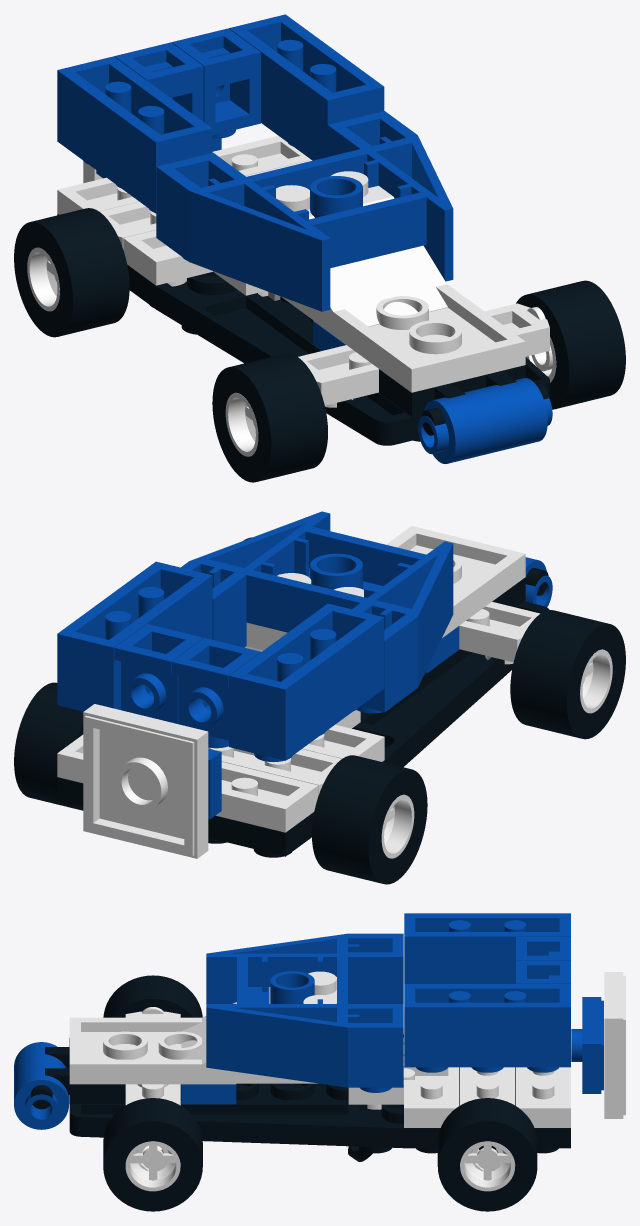
The model's file is Nova Hunter.dae.
3 views of the same model, one above another, from view 1: azimuth 30°, elevation 25°; view 2: azimuth 150°, elevation 25°; view 3: azimuth 270°, elevation 25° (orthographic). The views are drawn at different scales.
Visible parts, largest first — view 1: 2399_dot_dat, 30028_dot_dat (×3), 3622_dot_dat (×2), 2413_dot_dat, 3021_dot_dat, 4070_dot_dat (×2), 3062b_dot_dat (×2), 3298_dot_dat, 2926_dot_dat (×2), 3710_dot_dat, 30027a_dot_dat (×2), 2420_dot_dat (+1 smaller); view 2: 3622_dot_dat (×2), 30028_dot_dat (×3), 2399_dot_dat, 3068bp10_dot_dat, 2413_dot_dat, 4070_dot_dat (×2), 3710_dot_dat, 2926_dot_dat (×2), 3021_dot_dat, 30027a_dot_dat (×2), 2420_dot_dat, 3298_dot_dat (+4 smaller); view 3: 2399_dot_dat, 3622_dot_dat (×2), 30028_dot_dat (×3), 2413_dot_dat, 3021_dot_dat, 30027a_dot_dat (×2), 2420_dot_dat, 3062b_dot_dat (×2), 3068bp10_dot_dat, 2926_dot_dat (×2), 3710_dot_dat, 3298_dot_dat (+4 smaller).
Part boxes in pixels (left/top/right/bottom): 2399_dot_dat: left=156, top=111, right=453, bottom=311; 30028_dot_dat (×3): left=14, top=208, right=625, bottom=482; 3622_dot_dat (×2): left=57, top=14, right=384, bottom=213; 2413_dot_dat: left=57, top=213, right=549, bottom=445; 3021_dot_dat: left=313, top=284, right=525, bottom=392; 4070_dot_dat (×2): left=114, top=28, right=260, bottom=138; 3062b_dot_dat (×2): left=418, top=378, right=552, bottom=463; 3298_dot_dat: left=276, top=171, right=447, bottom=343; 2926_dot_dat (×2): left=100, top=160, right=549, bottom=407; 3710_dot_dat: left=57, top=135, right=310, bottom=214; 30027a_dot_dat (×2): left=27, top=247, right=258, bottom=456; 2420_dot_dat: left=123, top=230, right=268, bottom=296; 3622_dot_dat (×2): left=57, top=561, right=384, bottom=762; 30028_dot_dat (×3): left=14, top=610, right=625, bottom=884; 2399_dot_dat: left=181, top=511, right=453, bottom=713; 3068bp10_dot_dat: left=83, top=704, right=208, bottom=858; 2413_dot_dat: left=57, top=601, right=549, bottom=857; 4070_dot_dat (×2): left=114, top=624, right=260, bottom=748; 3710_dot_dat: left=57, top=734, right=318, bottom=832; 2926_dot_dat (×2): left=208, top=602, right=540, bottom=795; 3021_dot_dat: left=386, top=526, right=525, bottom=637; 30027a_dot_dat (×2): left=381, top=649, right=612, bottom=858; 2420_dot_dat: left=302, top=710, right=384, bottom=761; 3298_dot_dat: left=246, top=573, right=459, bottom=650; 2399_dot_dat: left=206, top=933, right=403, bottom=1092; 3622_dot_dat (×2): left=404, top=913, right=570, bottom=1072; 30028_dot_dat (×3): left=103, top=975, right=537, bottom=1211; 2413_dot_dat: left=69, top=1034, right=570, bottom=1153; 3021_dot_dat: left=69, top=1017, right=236, bottom=1087; 30027a_dot_dat (×2): left=125, top=1141, right=515, bottom=1191; 2420_dot_dat: left=348, top=1061, right=459, bottom=1127; 3062b_dot_dat (×2): left=14, top=1042, right=68, bottom=1129; 3068bp10_dot_dat: left=604, top=972, right=625, bottom=1118; 2926_dot_dat (×2): left=125, top=1007, right=515, bottom=1105; 3710_dot_dat: left=516, top=1067, right=570, bottom=1127; 3298_dot_dat: left=181, top=971, right=336, bottom=1083.
Bounding box in the file's own units: 124 × 78.13 × 220.
